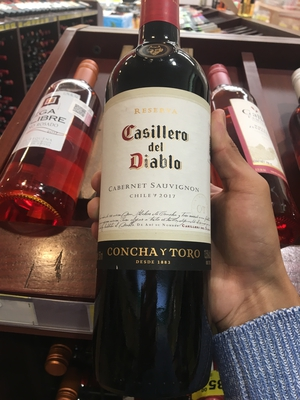casillero del diablo cabernet sauvignon: (91, 15, 224, 393)
